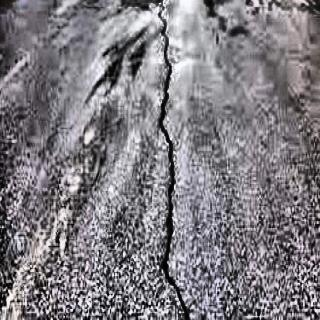pothole: (154, 0, 192, 320)
